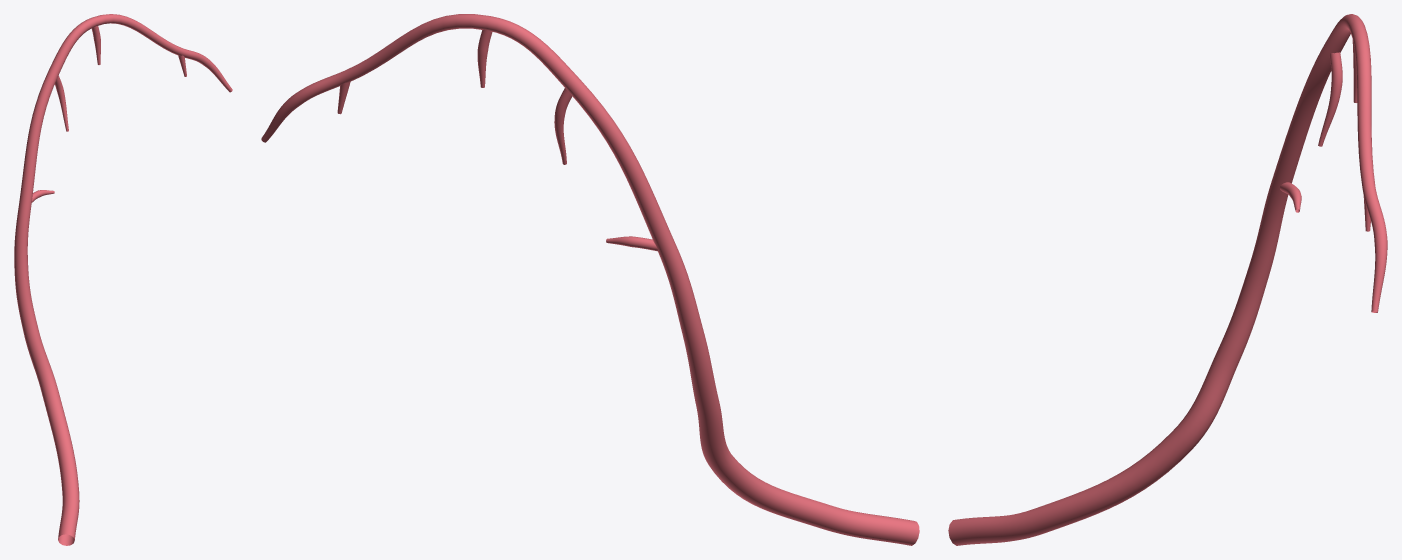
3 views of the same model, side by side, from view 1: azimuth 30°, elevation 25°; view 2: azimuth 150°, elevation 25°; view 3: azimuth 270°, elevation 25° (orthographic). The views are drawn at different scales.
Visible parts, largest first — view 1: ZA_75977182267ecf00; view 2: ZA_75977182267ecf00; view 3: ZA_75977182267ecf00.
Part boxes in pixels (x1,y1,x2,y2): ZA_75977182267ecf00: (14, 14, 232, 545); ZA_75977182267ecf00: (261, 14, 919, 545); ZA_75977182267ecf00: (948, 14, 1387, 545).
Size of the model in its own units: 0.0497 by 0.0629 by 0.039.
